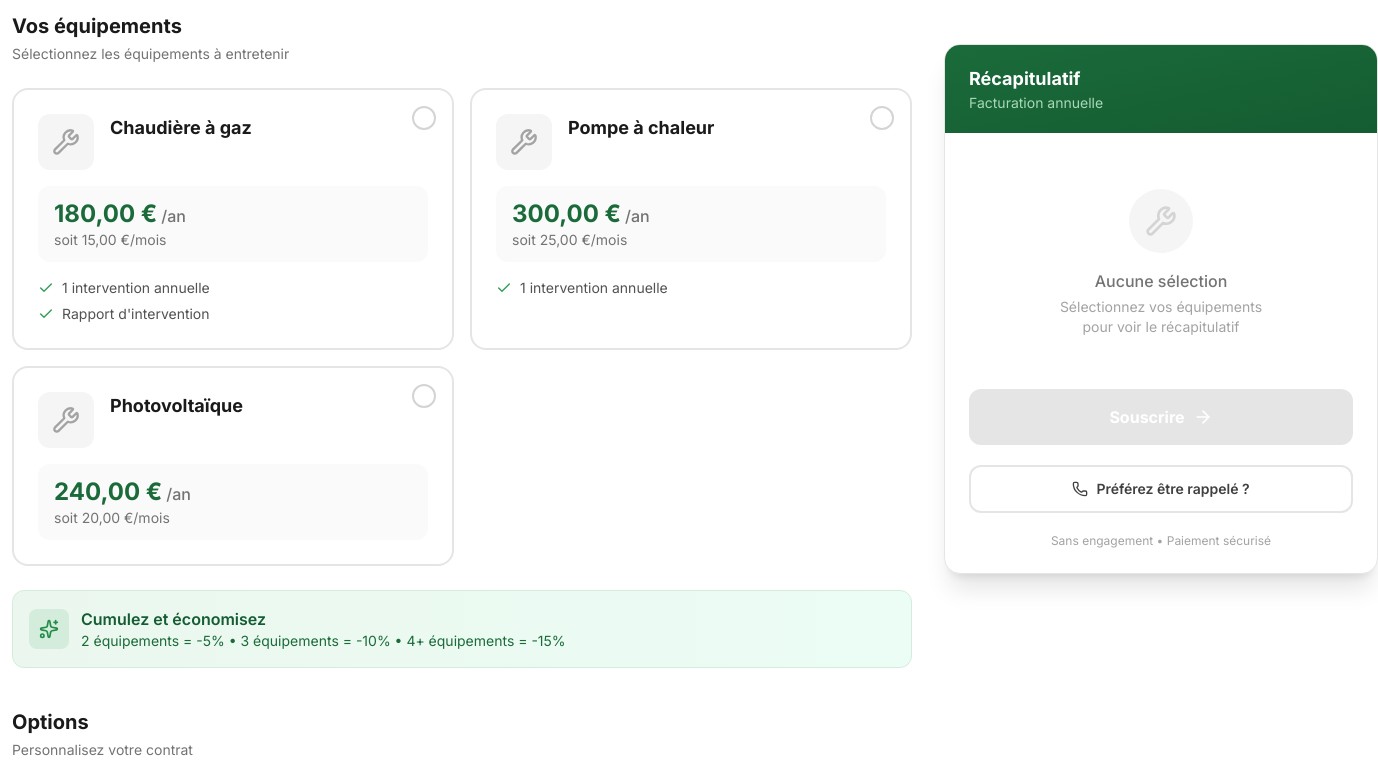
Scenario: MaintenanceConfigurator › enables subscribe button when a service is selected
This screenshot has width=1378, height=780.
Step 1. Click the heading "Chaudière à gaz" → (181, 128), box [110,117,252,138]
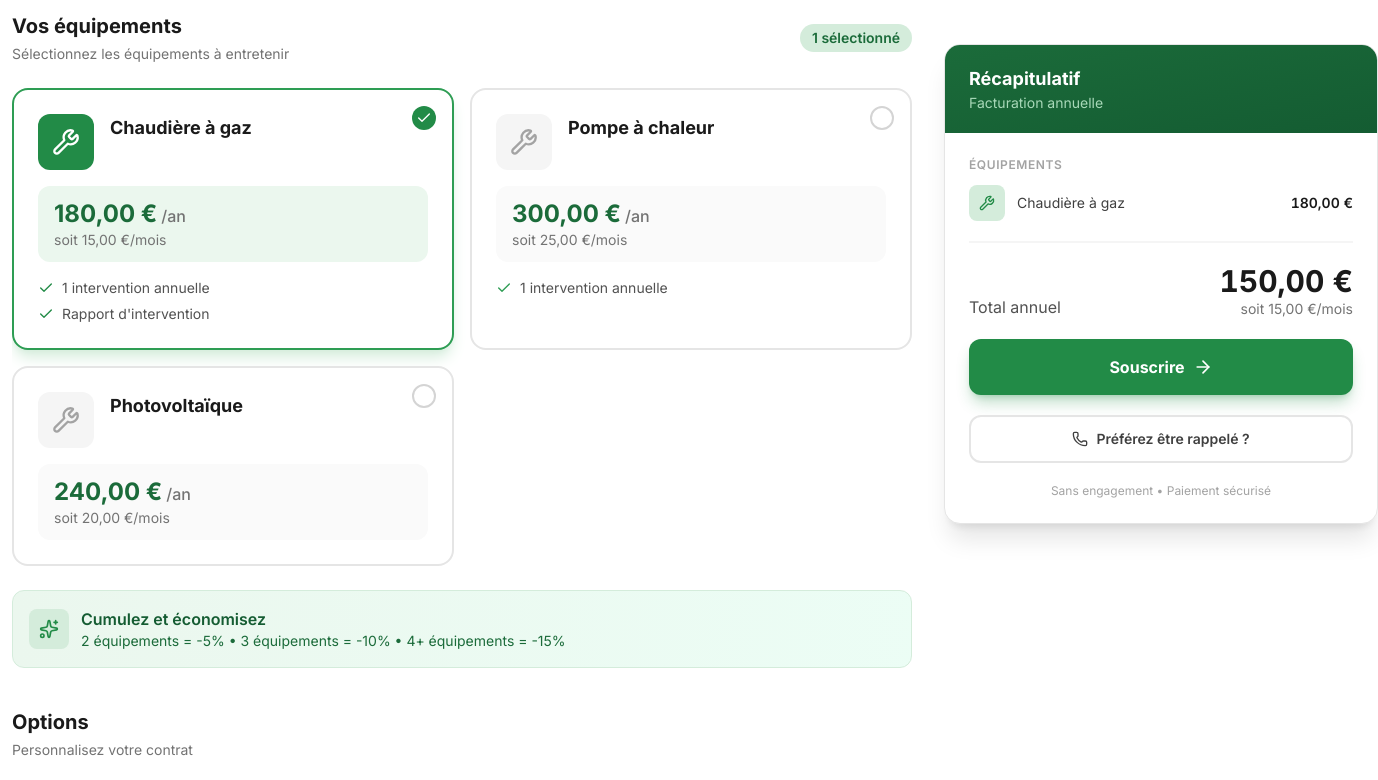
expect the button "Souscrire" is enabled: met, box [969,339,1353,395]
